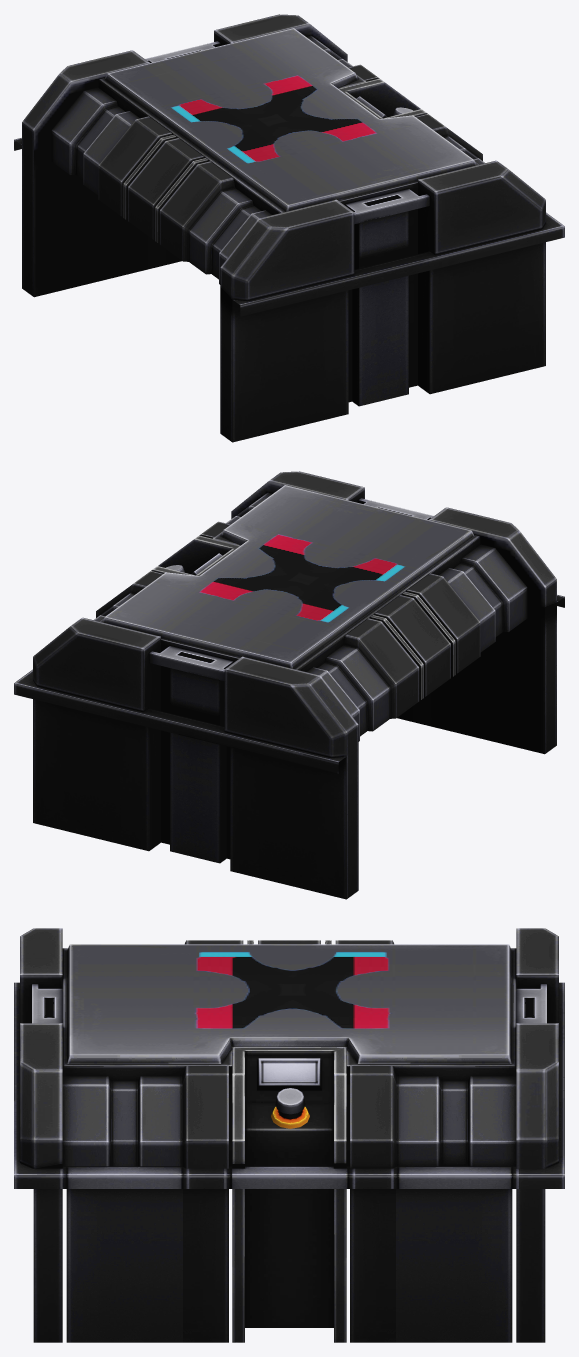
The model's file is trap_207_mufrwl.fbx.
The picture shows the model from 3 angles, top to bottom: view 1: azimuth 30°, elevation 25°; view 2: azimuth 150°, elevation 25°; view 3: azimuth 270°, elevation 25°; orthographic projection. The views are drawn at different scales.
Parts seen in each view (by area): view 1: trap_207_mufrwl; view 2: trap_207_mufrwl; view 3: trap_207_mufrwl.
Part boxes in pixels (x1,y1,x2,y2): trap_207_mufrwl: (14, 14, 564, 442); trap_207_mufrwl: (14, 471, 564, 899); trap_207_mufrwl: (14, 928, 564, 1342).
Size of the model in its own units: 0.5856 by 0.3597 by 0.7078.
Materials: 1 (1 with a texture image).
